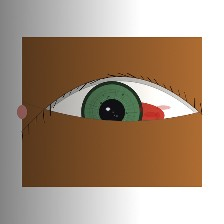hemorrhage_spot: (77, 75, 178, 156)
